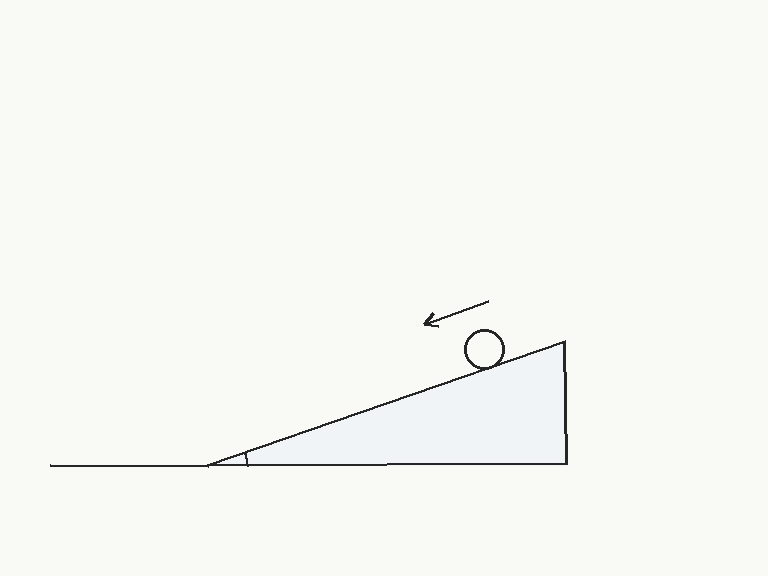ball: (462, 327, 506, 371)
ramp: (205, 340, 567, 467)
